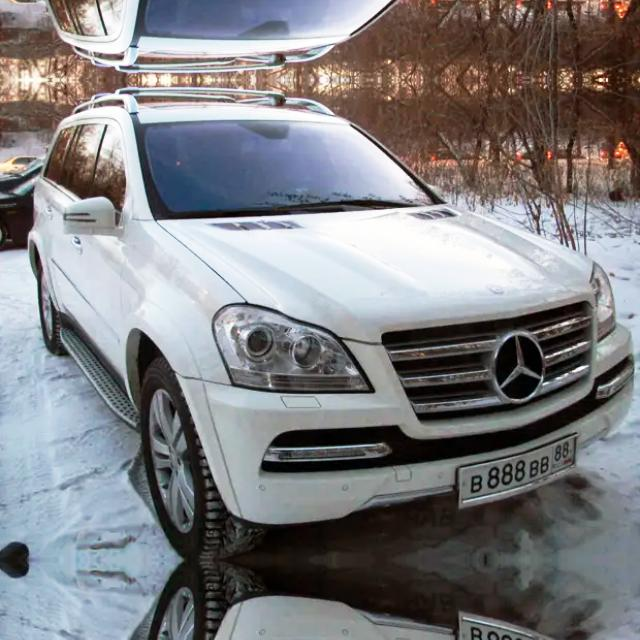citizen: (452, 426, 582, 514), (452, 605, 581, 640)
